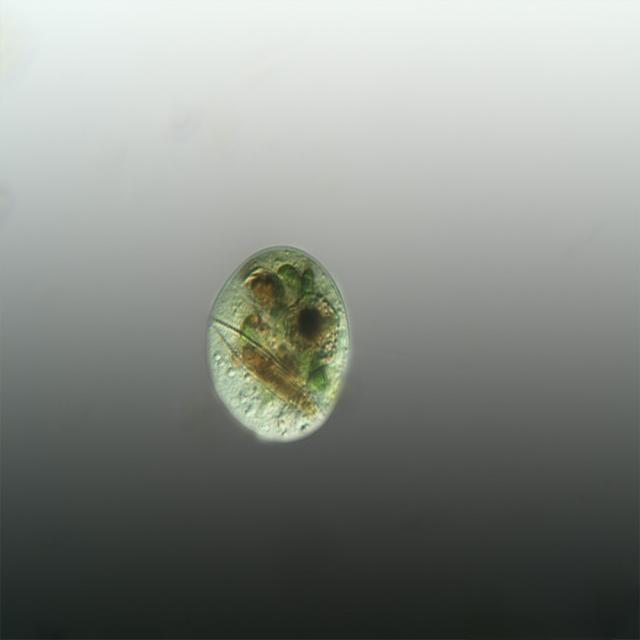Amoeba: (206, 243, 352, 443)
